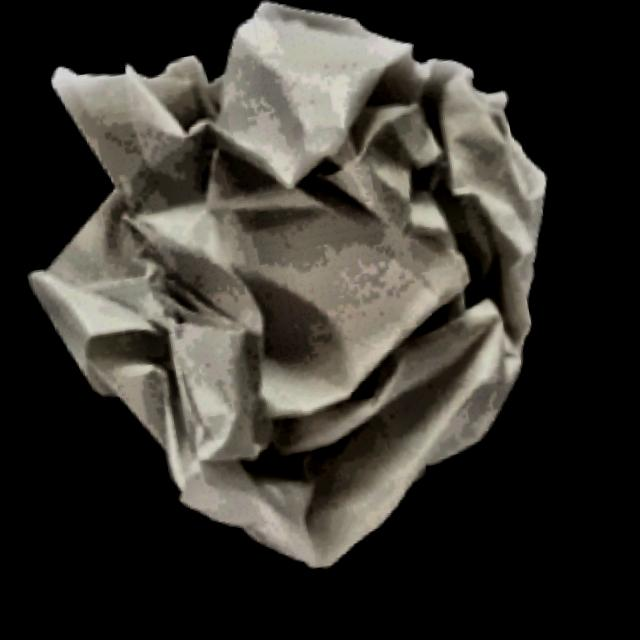Paper: (0, 0, 607, 613)
